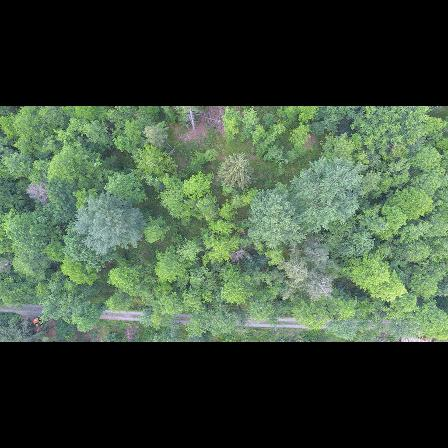Dead: (24, 180, 52, 204), (185, 109, 199, 133), (201, 112, 223, 126)
